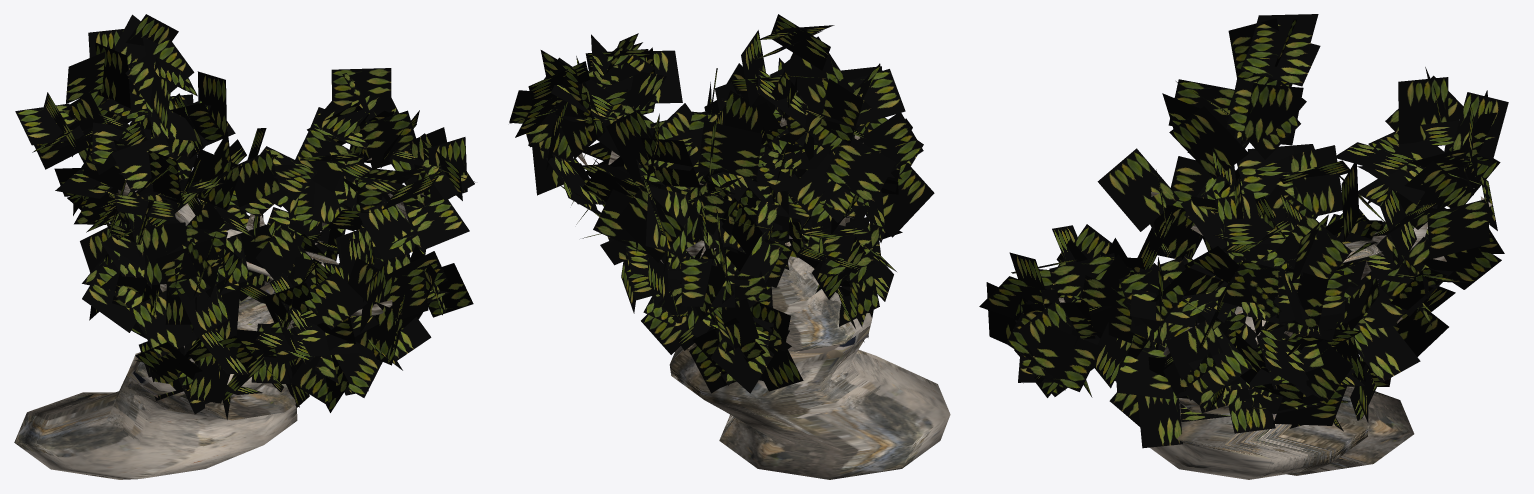
The model's file is tree-layered-07-lod0.glb.
3 views of the same model, side by side, from view 1: azimuth 30°, elevation 25°; view 2: azimuth 150°, elevation 25°; view 3: azimuth 270°, elevation 25° (orthographic). The views are drawn at different scales.
Visible parts, largest first — view 1: tree-layered-07_MATERIAL_BATCH; view 2: tree-layered-07_MATERIAL_BATCH; view 3: tree-layered-07_MATERIAL_BATCH.
Boxes of the visible parts, left/top/right/bottom form: tree-layered-07_MATERIAL_BATCH: left=14, top=14, right=475, bottom=479; tree-layered-07_MATERIAL_BATCH: left=509, top=14, right=950, bottom=479; tree-layered-07_MATERIAL_BATCH: left=979, top=14, right=1508, bottom=479.
Bounding box in the file's own units: 13.54 × 13 × 14.73.
3 materials, 3 textured.
